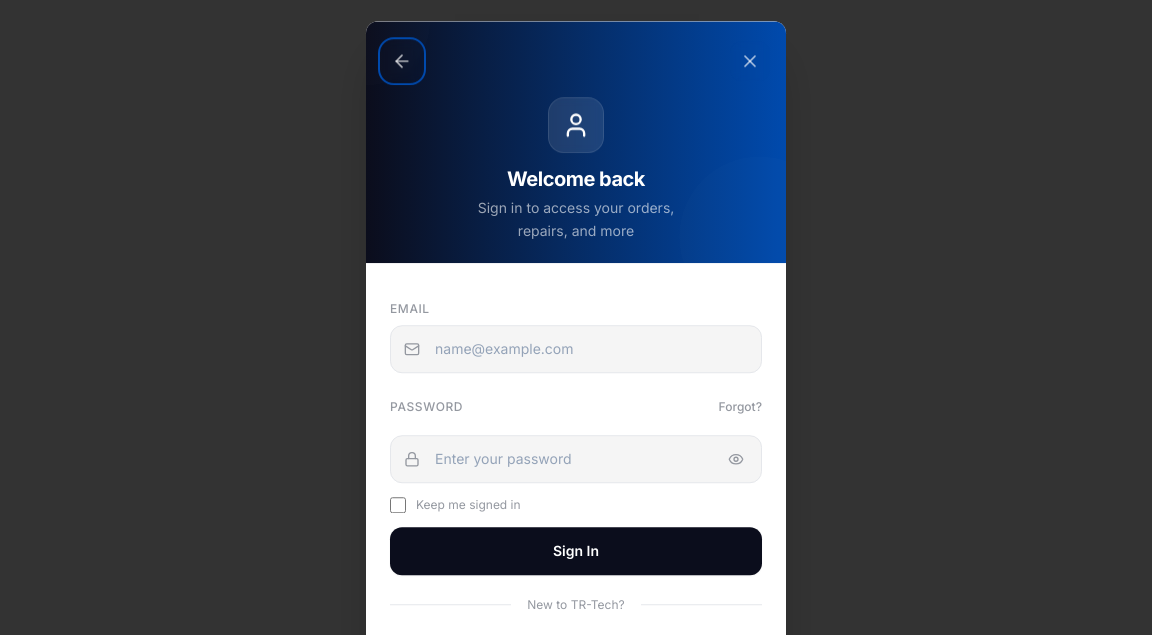
Scenario: AuthModal › shows validation error for short password
# Enter a password shorter than the 8-character minimum
In the password field with test id "auth-password": (576, 459) [390,435,762,483], type "123"
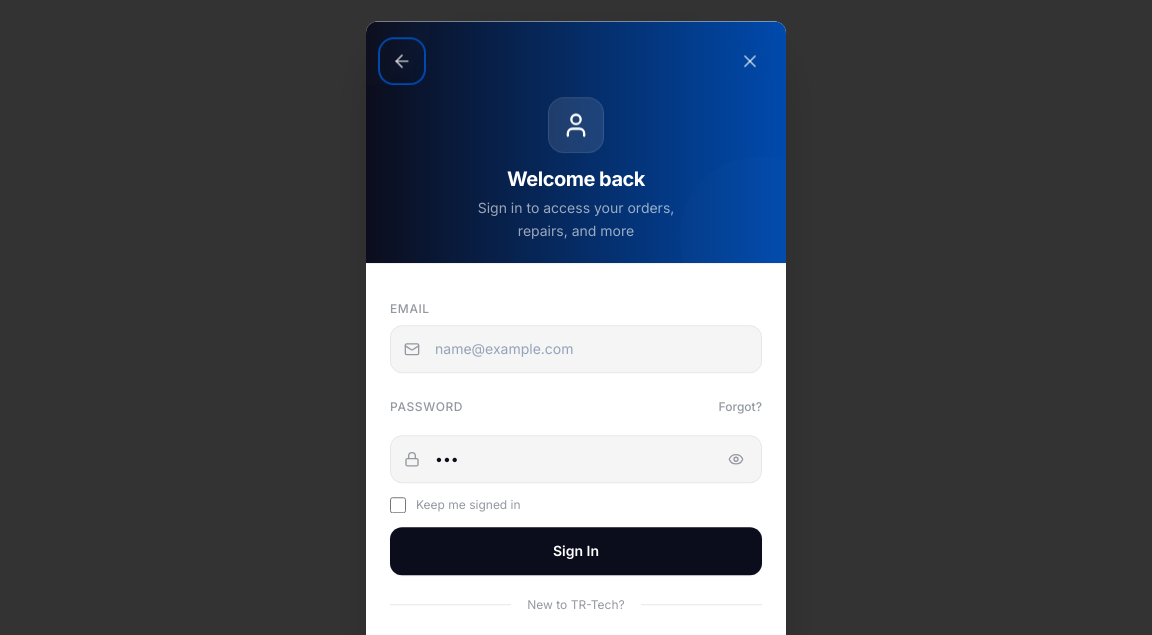
Click the button with test id "auth-submit": (576, 551) [390,527,762,575]
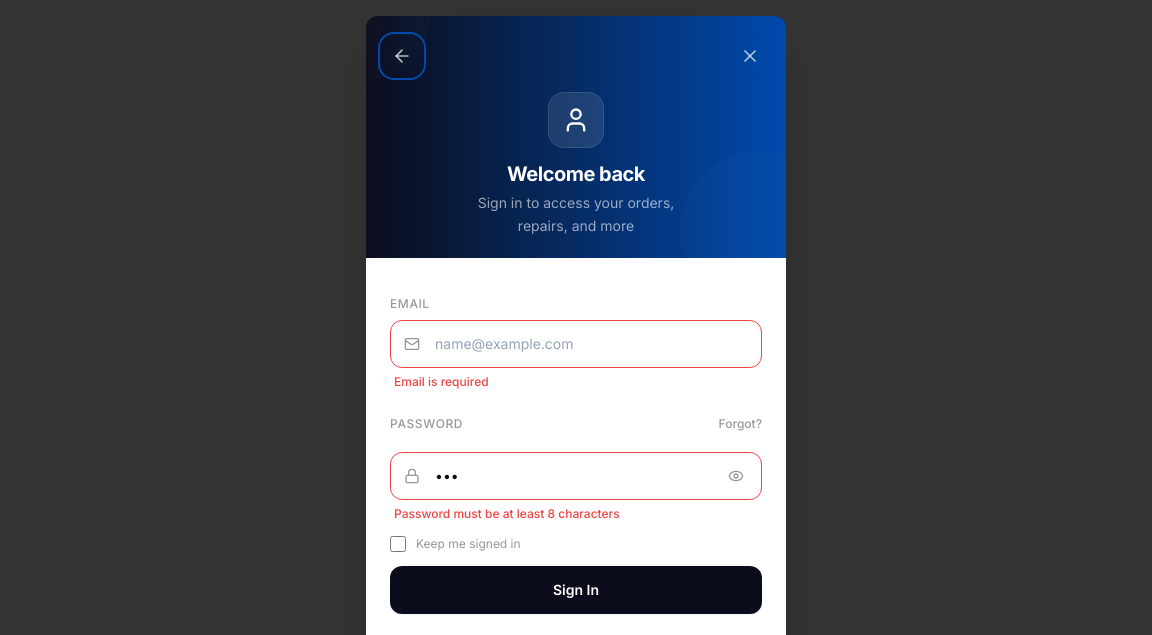
Expected: the text "Password must be at least 8 characters" is shown, [394,506,620,520]
